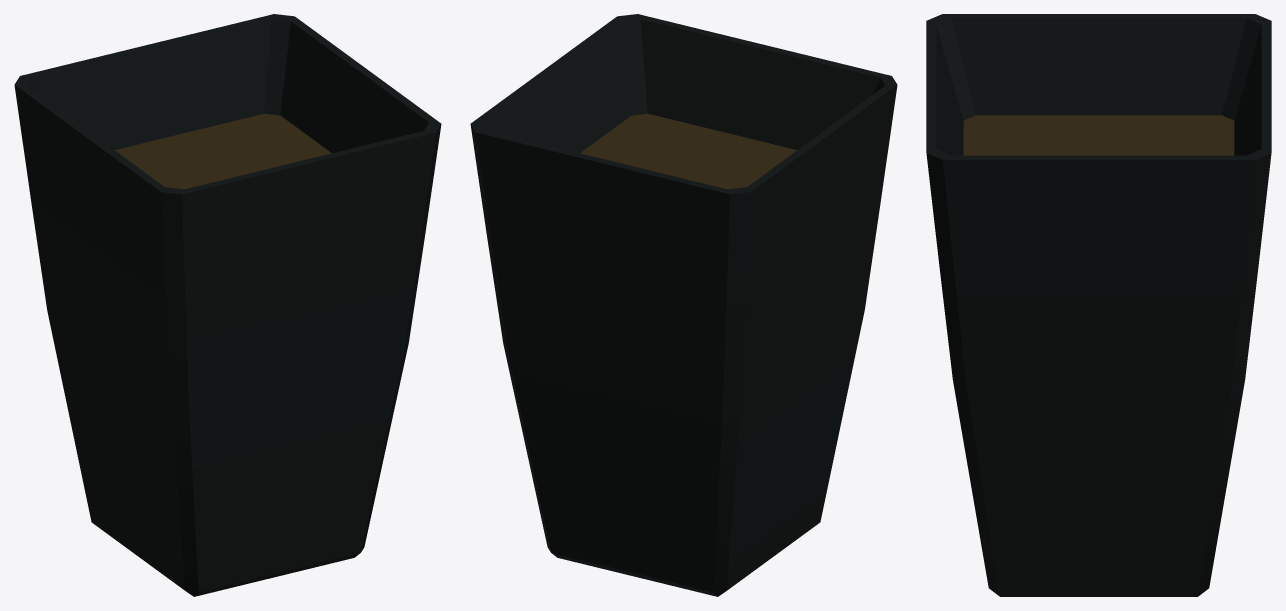
The model's file is PlantPot-Large_03.fbx.
3 views of the same model, side by side, from view 1: azimuth 30°, elevation 25°; view 2: azimuth 150°, elevation 25°; view 3: azimuth 270°, elevation 25° (orthographic). The views are drawn at different scales.
Visible parts, largest first — view 1: PlantPotLarge_03; view 2: PlantPotLarge_03; view 3: PlantPotLarge_03.
Boxes of the visible parts, x1,y1,x2,y2 form: PlantPotLarge_03: (14,14,441,596); PlantPotLarge_03: (470,14,897,596); PlantPotLarge_03: (926,14,1271,596).
Size of the model in its own units: 0.3577 by 0.5356 by 0.3577.
